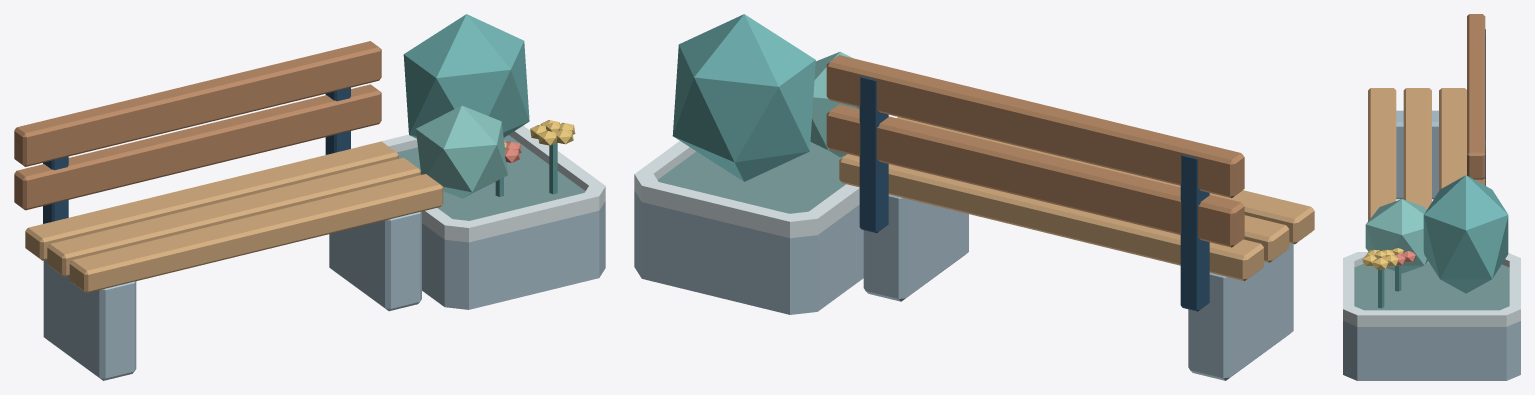
The model's file is campus_planter_bench_v01.glb.
3 renders of one model, left to right at view 1: azimuth 30°, elevation 25°; view 2: azimuth 150°, elevation 25°; view 3: azimuth 270°, elevation 25°, orthographic. The views are drawn at different scales.
Visible parts, largest first — view 1: campus_planter_bench; view 2: campus_planter_bench; view 3: campus_planter_bench.
Part boxes in pixels (<box>): campus_planter_bench: <box>14,14,605,380</box>; campus_planter_bench: <box>634,14,1314,380</box>; campus_planter_bench: <box>1343,14,1520,380</box>.
Bounding box in the file's own units: 3.34 × 1.38 × 1.25.
1 material, 1 textured.
